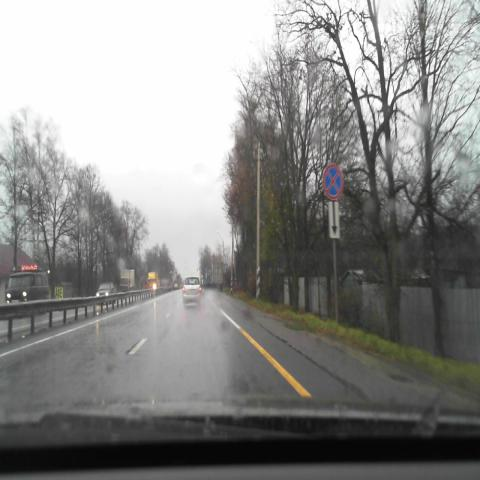8_2_3: (328, 201, 340, 239)
